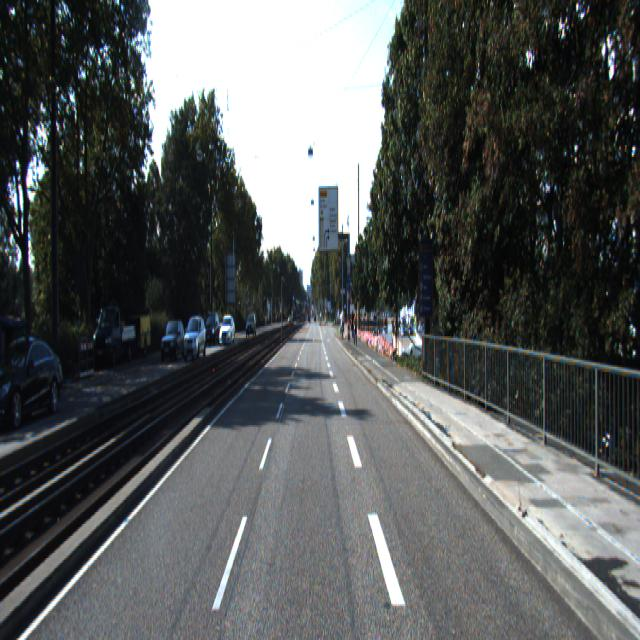Car: (0, 323, 71, 426), (92, 300, 136, 366), (160, 318, 189, 363), (183, 316, 207, 362), (133, 312, 152, 357), (218, 312, 236, 348), (203, 312, 221, 348)
